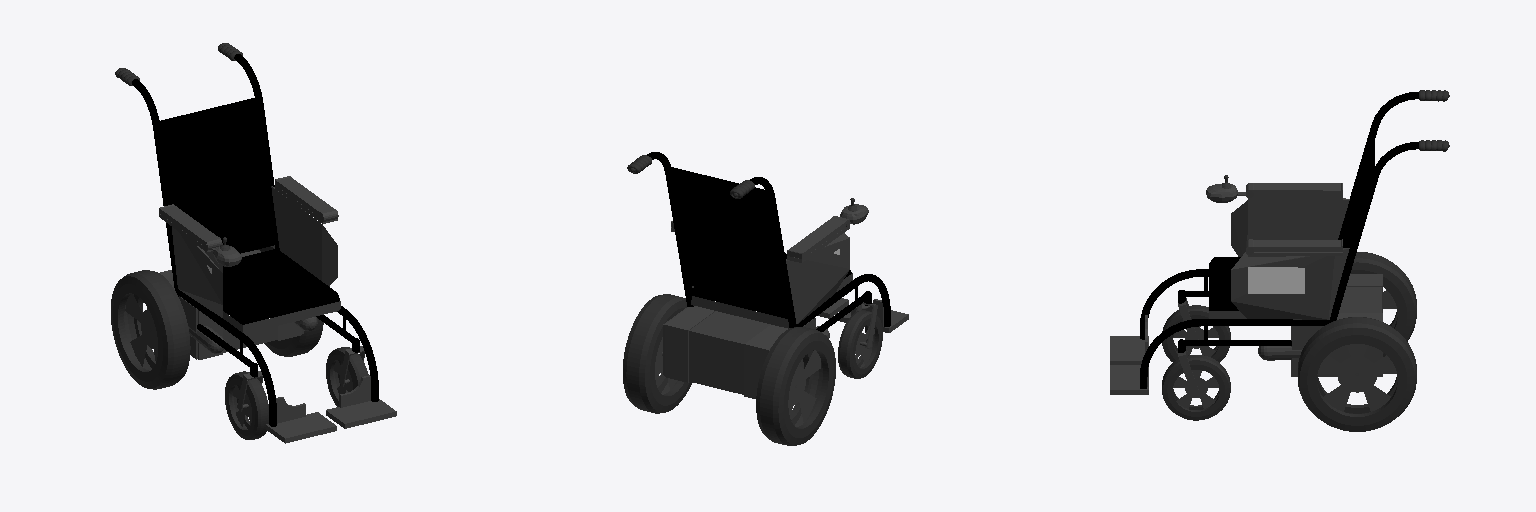
Rendered from quickieTHREE.obj.
3 renders of one model, left to right at view 1: azimuth 30°, elevation 25°; view 2: azimuth 150°, elevation 25°; view 3: azimuth 270°, elevation 25°, orthographic.
Parts seen in each view (by area): view 1: ChairBack, Side, Roda_Traseira, seat, feet, Roda_Dianteira, BackHandle, stabiltycrap, Wheel_Support, Bateria/Base; view 2: Roda_Traseira, ChairBack, Bateria/Base, Side, stabiltycrap, BackHandle, Roda_Dianteira, seat, feet, Wheel_Support; view 3: Side, Roda_Traseira, feet, Roda_Dianteira, BackHandle, Bateria/Base, Wheel_Support, seat, sticker_other_side, stabiltycrap, ChairBack, Joystick.
Boxes of the visible parts, x1=… form: ChairBack: x1=160, y1=97, x2=275, y2=253; Side: x1=159, y1=176, x2=338, y2=317; Roda_Traseira: x1=111, y1=245, x2=323, y2=389; seat: x1=223, y1=249, x2=340, y2=333; feet: x1=177, y1=290, x2=396, y2=443; Roda_Dianteira: x1=225, y1=347, x2=368, y2=439; BackHandle: x1=115, y1=43, x2=279, y2=296; stabiltycrap: x1=160, y1=250, x2=317, y2=359; Wheel_Support: x1=150, y1=315, x2=364, y2=411; Bateria/Base: x1=179, y1=250, x2=303, y2=359; Roda_Traseira: x1=623, y1=294, x2=835, y2=445; ChairBack: x1=672, y1=167, x2=785, y2=308; Bateria/Base: x1=663, y1=307, x2=815, y2=394; Side: x1=671, y1=216, x2=850, y2=323; stabiltycrap: x1=665, y1=306, x2=829, y2=398; BackHandle: x1=627, y1=152, x2=796, y2=327; Roda_Dianteira: x1=838, y1=310, x2=882, y2=378; seat: x1=691, y1=253, x2=852, y2=328; feet: x1=797, y1=274, x2=908, y2=332; Wheel_Support: x1=662, y1=291, x2=877, y2=387; Side: x1=1231, y1=183, x2=1349, y2=319; Roda_Traseira: x1=1298, y1=252, x2=1416, y2=431; feet: x1=1110, y1=269, x2=1329, y2=394; Roda_Dianteira: x1=1162, y1=305, x2=1230, y2=420; BackHandle: x1=1329, y1=90, x2=1449, y2=322; Bateria/Base: x1=1292, y1=287, x2=1381, y2=376; Wheel_Support: x1=1178, y1=290, x2=1358, y2=393; seat: x1=1209, y1=257, x2=1246, y2=318; sticker_other_side: x1=1248, y1=267, x2=1304, y2=293; stabiltycrap: x1=1258, y1=274, x2=1382, y2=376; ChairBack: x1=1340, y1=124, x2=1374, y2=247; Joystick: x1=1206, y1=175, x2=1245, y2=202.
Bounding box in the file's own units: 95 × 160 × 176.